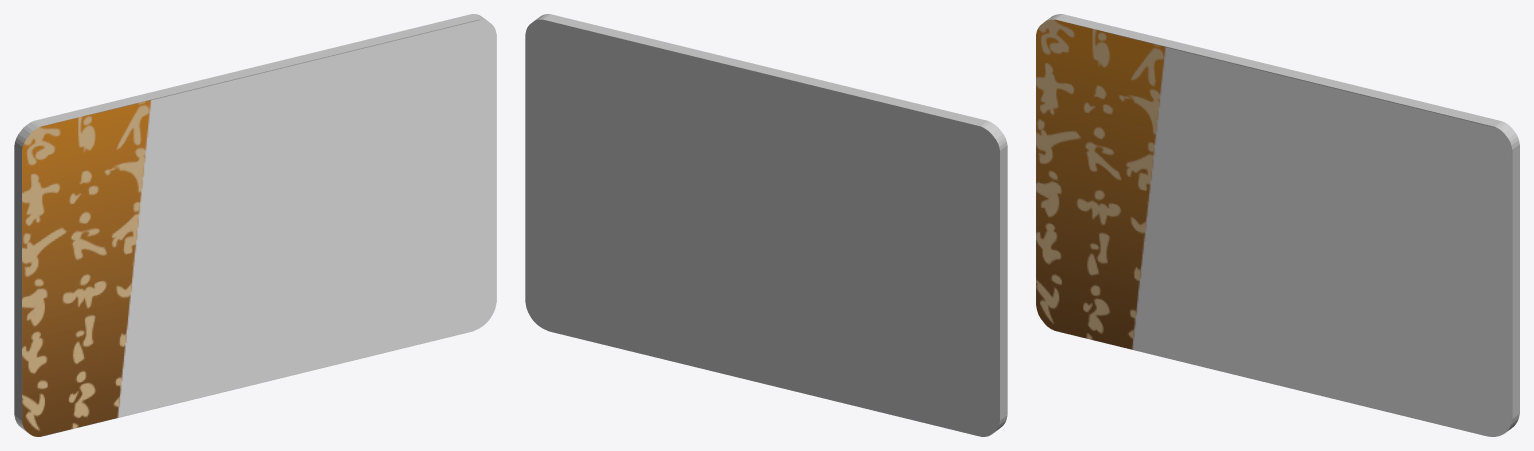
The model's file is Namecard2.obj.
3 views of the same model, side by side, from view 1: azimuth 30°, elevation 25°; view 2: azimuth 150°, elevation 25°; view 3: azimuth 330°, elevation 25° (orthographic).
Visible parts, largest first — view 1: Plane; view 2: Plane; view 3: Plane.
Part boxes in pixels (<box>): Plane: <box>14,14,496,436</box>; Plane: <box>525,14,1007,436</box>; Plane: <box>1036,14,1519,436</box>.
Size of the model in its own units: 4.98 by 3.11 by 0.1371.
Materials: 2 (1 with a texture image).
